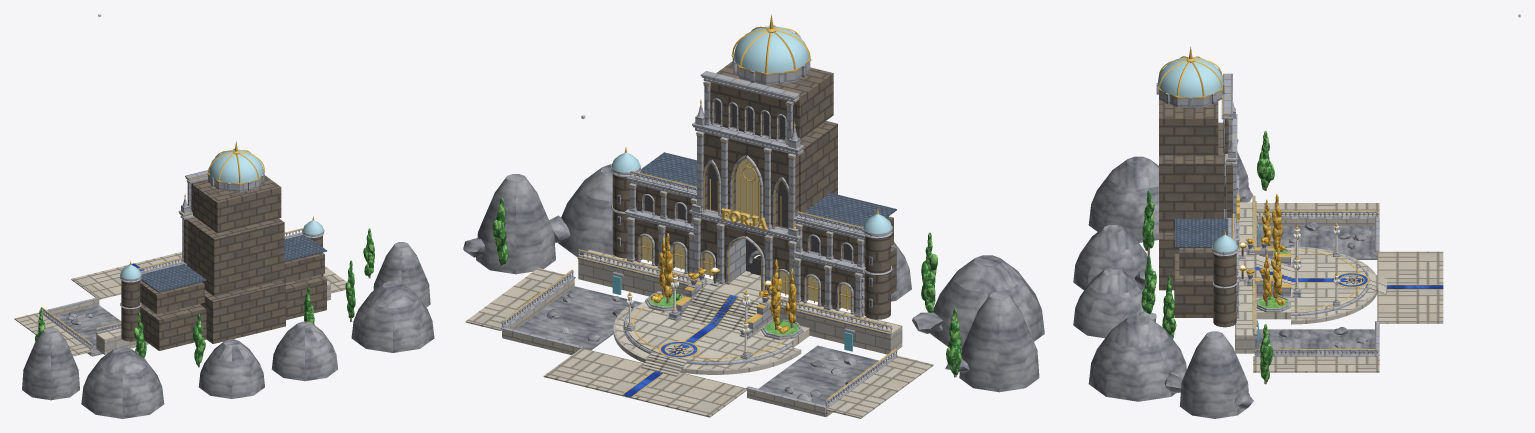
File: LV10_SECAO.fbx
3 renders of one model, left to right at view 1: azimuth 30°, elevation 25°; view 2: azimuth 150°, elevation 25°; view 3: azimuth 270°, elevation 25°, orthographic. The views are drawn at different scales.
Visible parts, largest first — view 1: RCK__agua, SDK__torre, SDK__alas, FLR__agua, LFV__agua, SLA__alas, GLS__torre, SLT__torre, SLT__alas, SLT__agua, GLD__torre_b_b, ASH__piso (+1 smaller); view 2: RCK__agua, SDK__torre, SLT__torre, FLR__agua, FLL__piso, SDK__alas, SLT__alas, ASH__piso, SLT__piso, SLA__alas, GLS__torre, LFV__agua (+13 smaller); view 3: RCK__agua, SDK__torre, FLR__agua, FLL__piso, SDK__alas, LFV__agua, SLT__piso, SLT__torre, SLT__agua, GLS__torre, SLA__alas, GLD__piso (+7 smaller).
Boxes of the visible parts, x1=… form: RCK__agua: x1=22, y1=242, x2=434, y2=418; SDK__torre: x1=184, y1=175, x2=285, y2=343; SDK__alas: x1=121, y1=235, x2=326, y2=350; FLR__agua: x1=14, y1=252, x2=346, y2=356; LFV__agua: x1=35, y1=228, x2=374, y2=365; SLA__alas: x1=141, y1=235, x2=326, y2=292; GLS__torre: x1=209, y1=149, x2=263, y2=183; SLT__torre: x1=178, y1=170, x2=264, y2=261; SLT__alas: x1=120, y1=228, x2=324, y2=309; SLT__agua: x1=41, y1=297, x2=99, y2=349; GLD__torre_b_b: x1=180, y1=141, x2=264, y2=215; ASH__piso: x1=96, y1=285, x2=330, y2=354; RCK__agua: x1=463, y1=164, x2=1044, y2=416; SDK__torre: x1=700, y1=61, x2=837, y2=295; SLT__torre: x1=689, y1=58, x2=810, y2=299; FLR__agua: x1=465, y1=268, x2=933, y2=418; FLL__piso: x1=578, y1=249, x2=902, y2=376; SDK__alas: x1=612, y1=173, x2=896, y2=319; SLT__alas: x1=611, y1=164, x2=892, y2=317; ASH__piso: x1=578, y1=260, x2=902, y2=374; SLT__piso: x1=577, y1=249, x2=892, y2=365; SLA__alas: x1=636, y1=152, x2=896, y2=230; GLS__torre: x1=733, y1=26, x2=808, y2=72; LFV__agua: x1=492, y1=198, x2=961, y2=375; RCK__agua: x1=1073, y1=151, x2=1377, y2=418; SDK__torre: x1=1159, y1=99, x2=1243, y2=290; FLR__agua: x1=1253, y1=203, x2=1443, y2=372; FLL__piso: x1=1235, y1=202, x2=1386, y2=336; SDK__alas: x1=1174, y1=177, x2=1236, y2=327; LFV__agua: x1=1141, y1=130, x2=1274, y2=381; SLT__piso: x1=1246, y1=195, x2=1368, y2=335; SLT__torre: x1=1156, y1=73, x2=1245, y2=289; SLT__agua: x1=1254, y1=211, x2=1379, y2=356; GLS__torre: x1=1157, y1=57, x2=1223, y2=97; SLA__alas: x1=1175, y1=149, x2=1228, y2=247; GLD__piso: x1=1247, y1=195, x2=1369, y2=334.
Size of the model in its own units: 219 by 124 by 176.
Materials: 22 (14 with a texture image).
